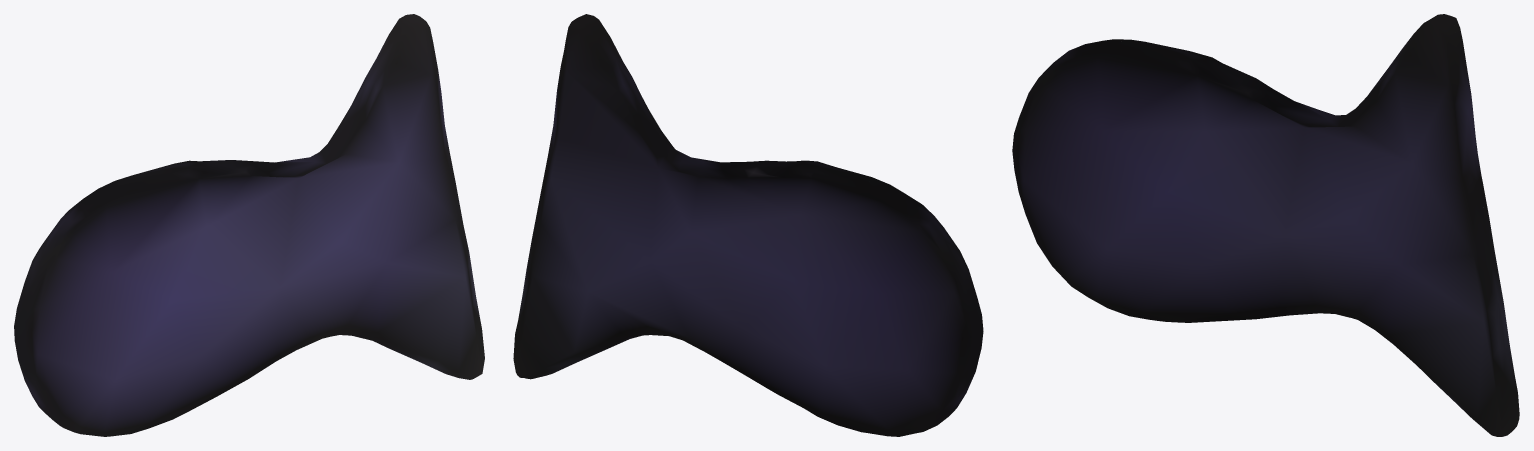
File: fish.obj
3 renders of one model, left to right at view 1: azimuth 30°, elevation 25°; view 2: azimuth 150°, elevation 25°; view 3: azimuth 330°, elevation 25°, orthographic. The views are drawn at different scales.
Size of the model in its own units: 0.0392 by 0.0298 by 0.00199.
